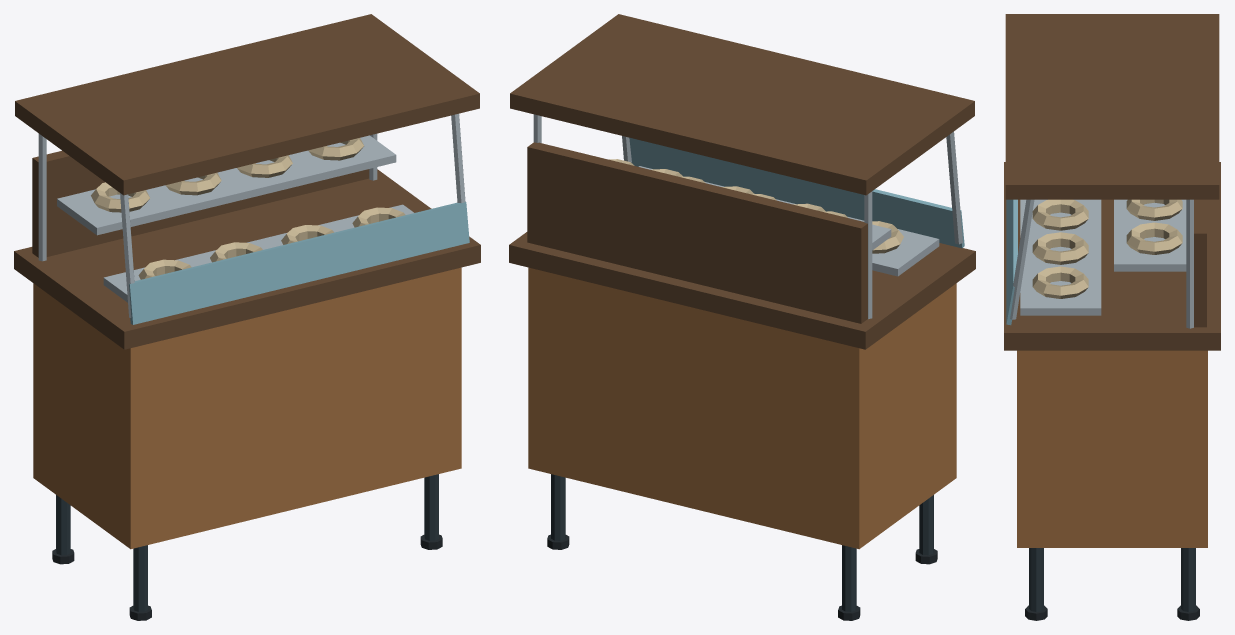
File: b10_donut_shop_display_counter.glb
3 renders of one model, left to right at view 1: azimuth 30°, elevation 25°; view 2: azimuth 150°, elevation 25°; view 3: azimuth 270°, elevation 25°, orthographic.
Visible parts, largest first — view 1: b10_donut_shop_display_counter; view 2: b10_donut_shop_display_counter; view 3: b10_donut_shop_display_counter.
Boxes of the visible parts, x1,y1,x2,y2 form: b10_donut_shop_display_counter: (14,14,480,620); b10_donut_shop_display_counter: (509,14,975,620); b10_donut_shop_display_counter: (1004,14,1220,620).
Bounding box in the file's own units: 1.25 × 1.52 × 0.67.
